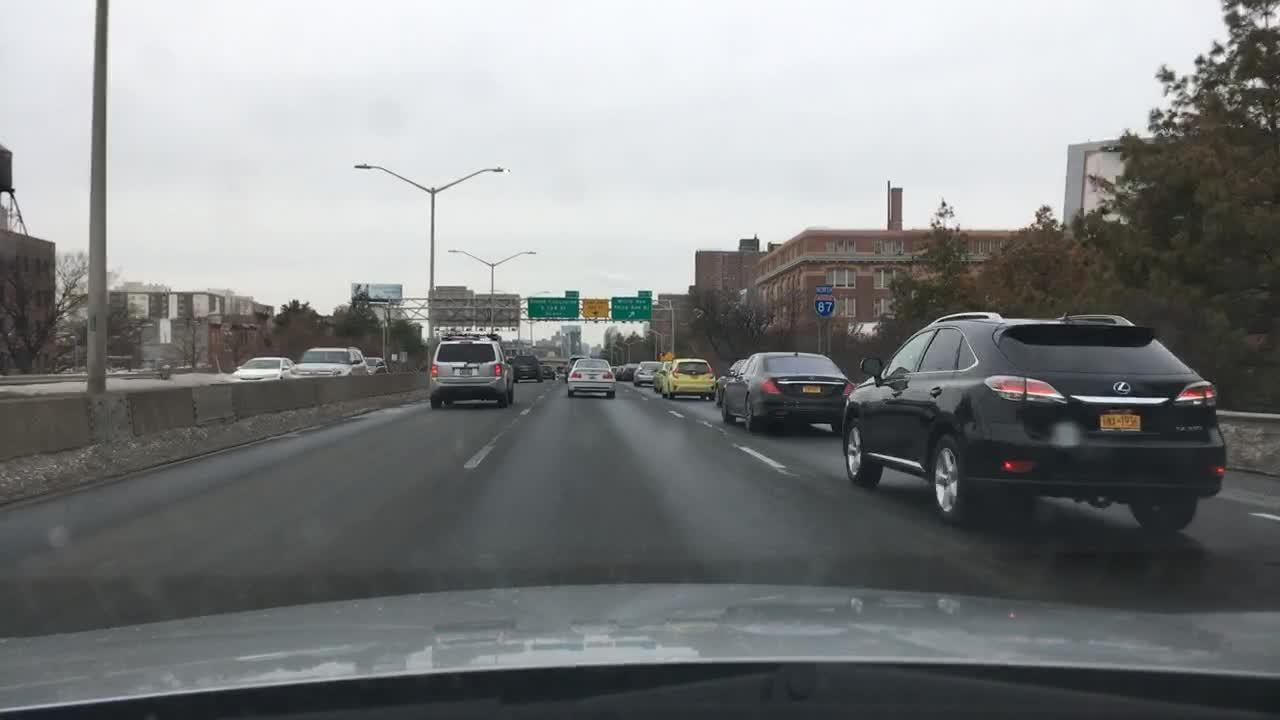lexus: (1102, 372, 1144, 400)
